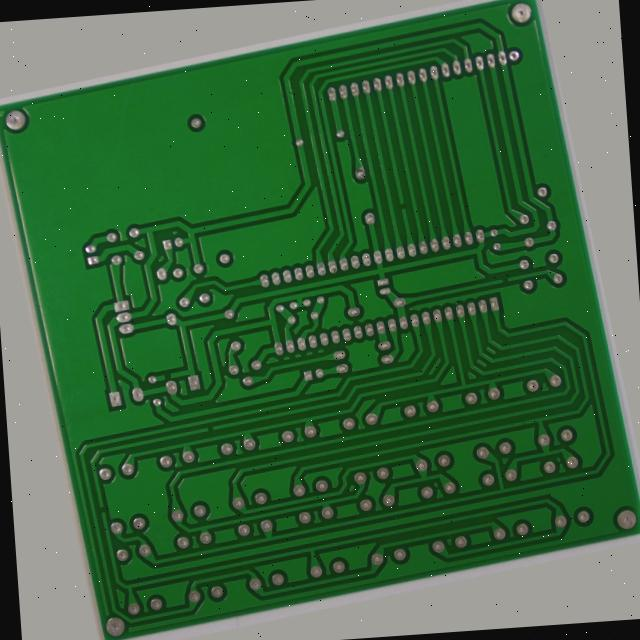open_circuit: (524, 298, 540, 311), (132, 352, 148, 365), (173, 417, 186, 431), (41, 489, 51, 505), (424, 198, 435, 212)
